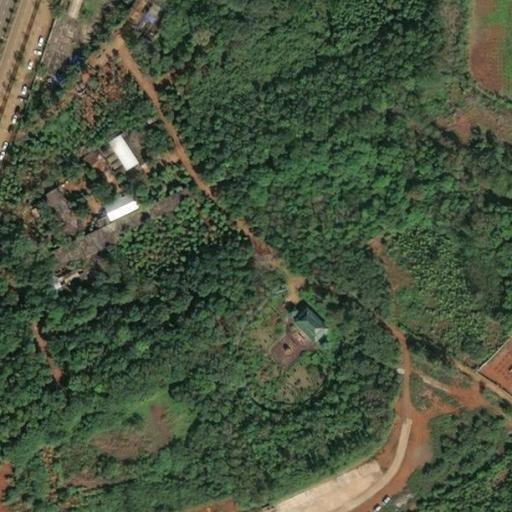building: (39, 183, 182, 266), (37, 179, 85, 236), (88, 122, 140, 173), (279, 306, 317, 344), (91, 190, 130, 221), (67, 143, 96, 169), (132, 2, 149, 21), (300, 337, 317, 353), (270, 306, 286, 323)
